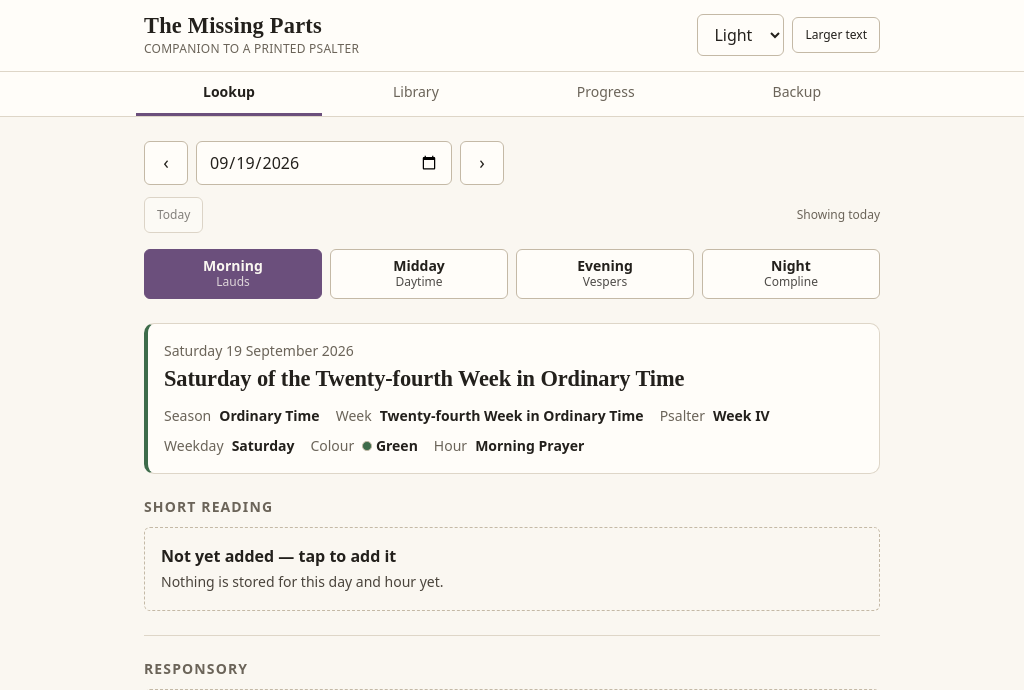
Scenario: the lookup screen › moves a day at a time and back to today
Type "2026-01-12" into the date field named "Date" at (324, 163), box x1=196 y1=141 x2=452 y2=185
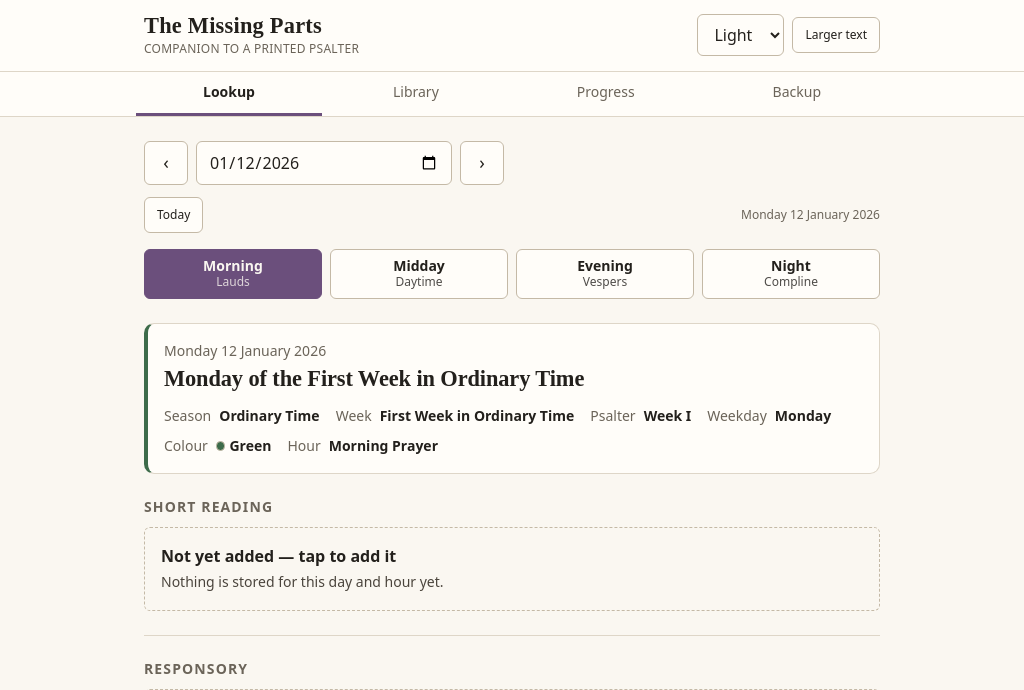
Click the button named "Next day" at (482, 163), box x1=460 y1=141 x2=504 y2=185
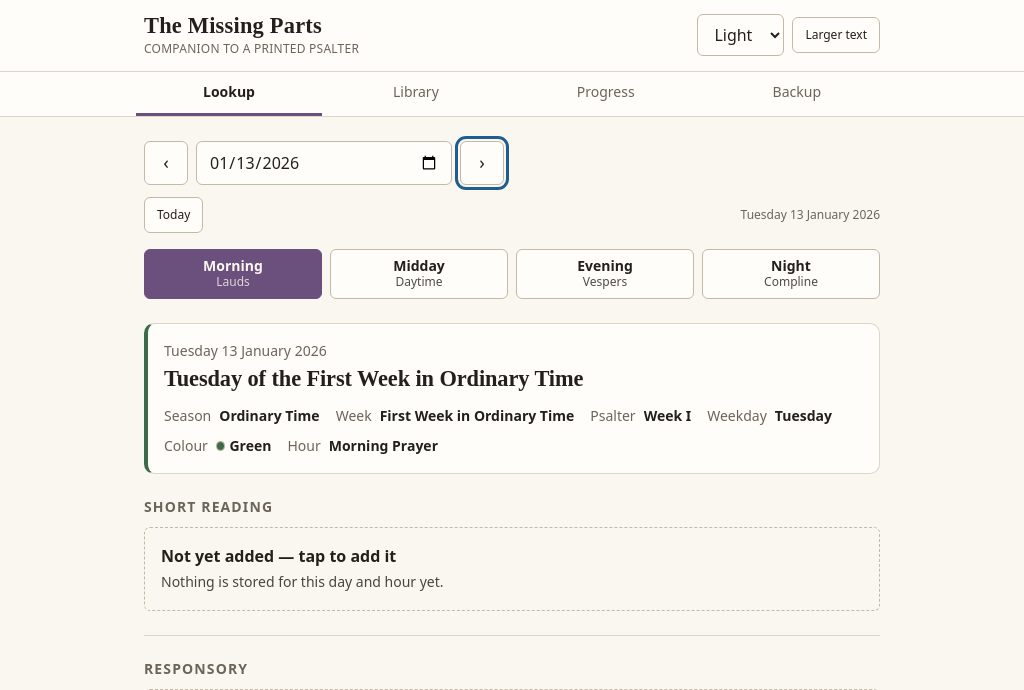
Expected: the date field named "Date" holds "2026-01-13", x1=196 y1=141 x2=452 y2=185
Click the button named "Previous day" at (166, 163), box x1=144 y1=141 x2=188 y2=185
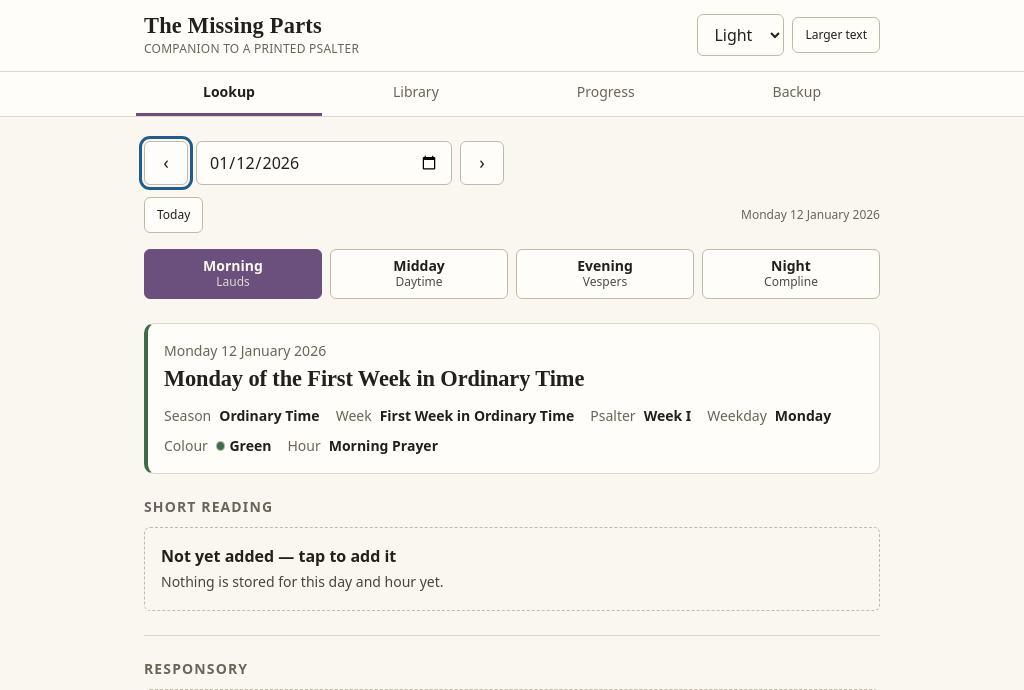
Click the button "Today" at (174, 215), box x1=144 y1=197 x2=203 y2=233
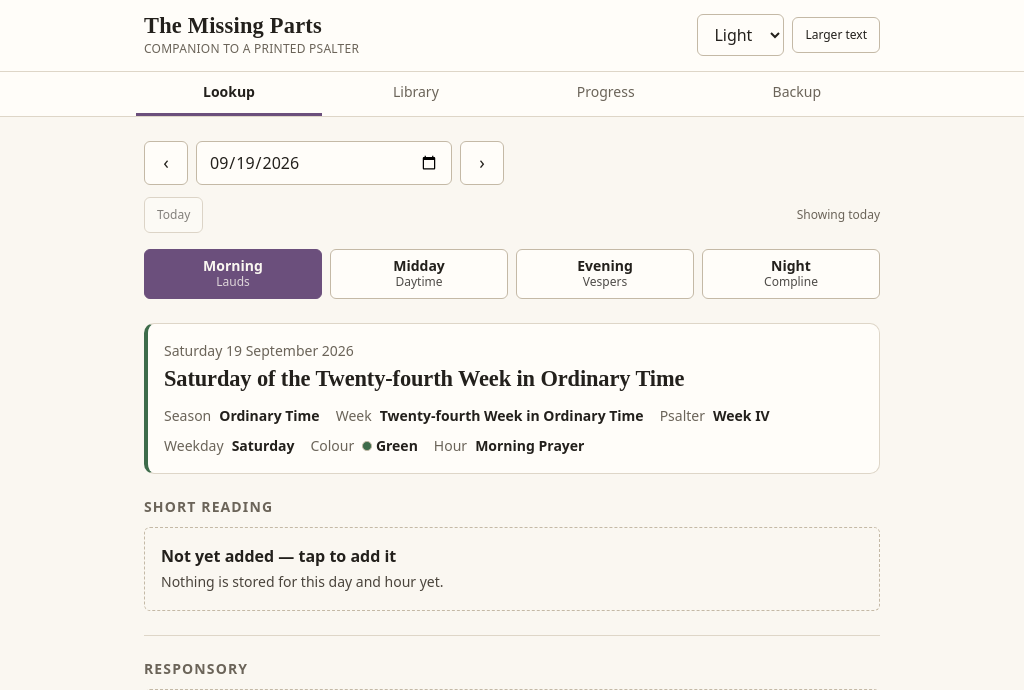
Expected: the text "Showing today" is shown, x1=797 y1=206 x2=880 y2=225
